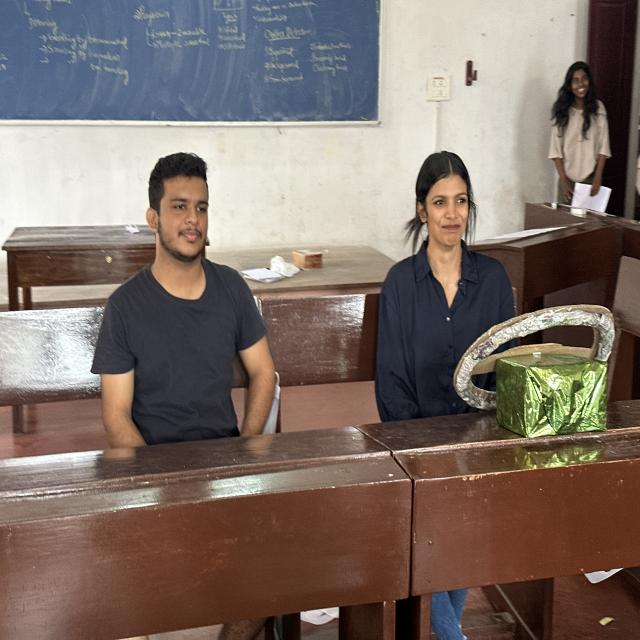Helmet: (95, 248, 282, 459), (373, 248, 524, 412), (272, 242, 273, 252)
